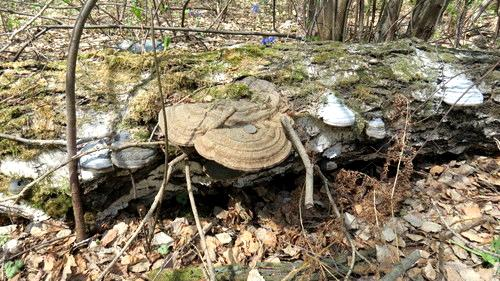Ganoderma - Fruit Body: (159, 101, 296, 171)
